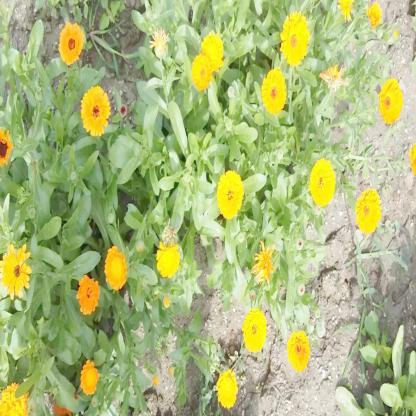marigold: (78, 86, 108, 136), (282, 14, 310, 64), (2, 249, 29, 300), (216, 170, 242, 218), (310, 158, 336, 204), (356, 189, 381, 235), (262, 68, 286, 115), (55, 22, 81, 65), (244, 308, 267, 352), (380, 78, 403, 122), (0, 381, 28, 415), (288, 330, 310, 372), (76, 276, 99, 316), (156, 243, 180, 281), (105, 250, 126, 292), (218, 370, 238, 405), (201, 34, 221, 67), (193, 55, 211, 91)
